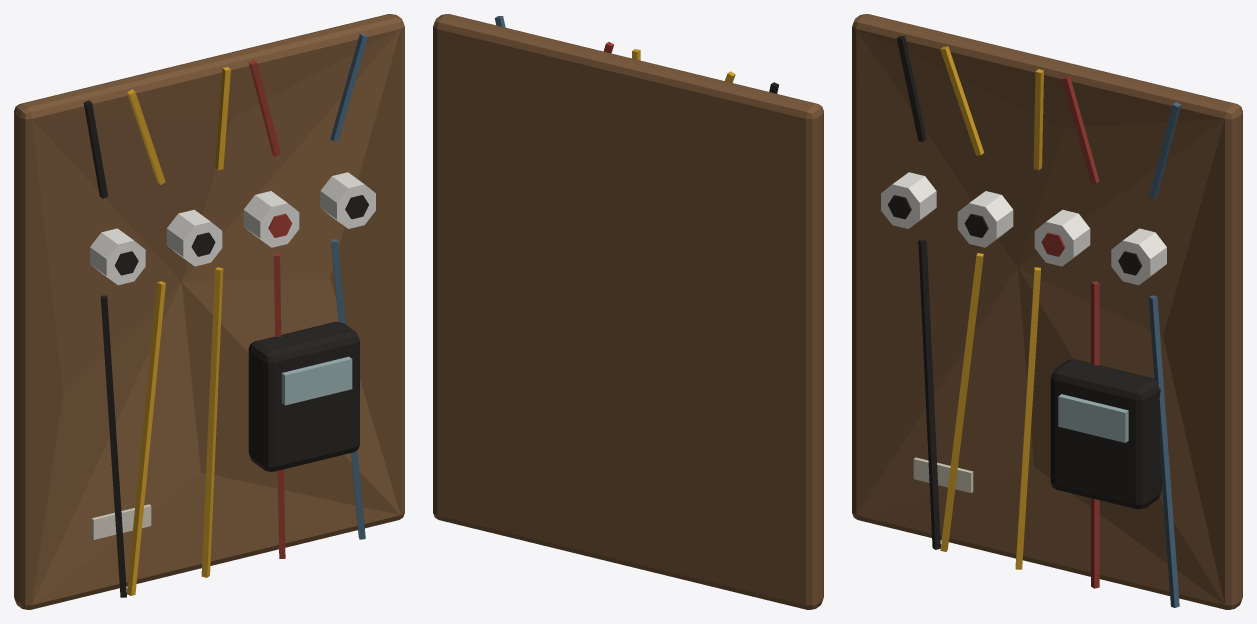
The model's file is fuse_box_samodelnyy_idle.glb.
3 views of the same model, side by side, from view 1: azimuth 30°, elevation 25°; view 2: azimuth 150°, elevation 25°; view 3: azimuth 330°, elevation 25° (orthographic).
Visible parts, largest first — view 1: fuse_box_samodelnyy_idle; view 2: fuse_box_samodelnyy_idle; view 3: fuse_box_samodelnyy_idle.
Part boxes in pixels (x1,y1,x2,y2): fuse_box_samodelnyy_idle: (14, 14, 404, 609); fuse_box_samodelnyy_idle: (433, 14, 823, 609); fuse_box_samodelnyy_idle: (852, 14, 1242, 609).
Size of the model in its own units: 0.4 by 0.5014 by 0.072.
Materials: 1 (1 with a texture image).
